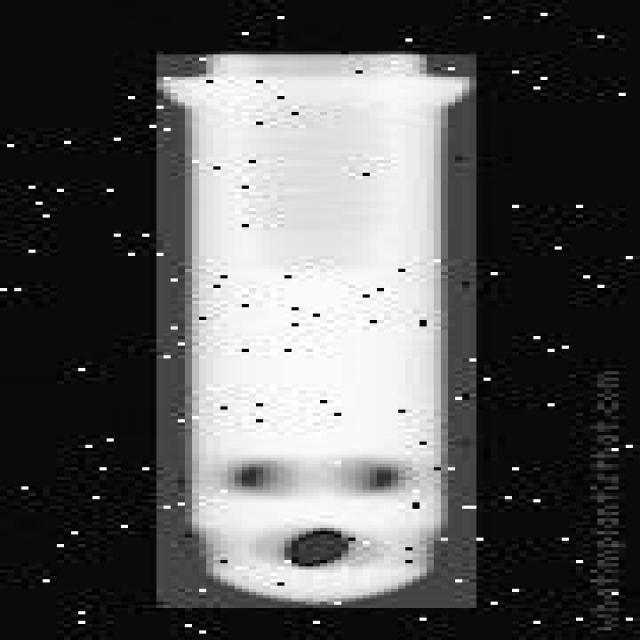Leone Implant: (156, 54, 476, 608)
